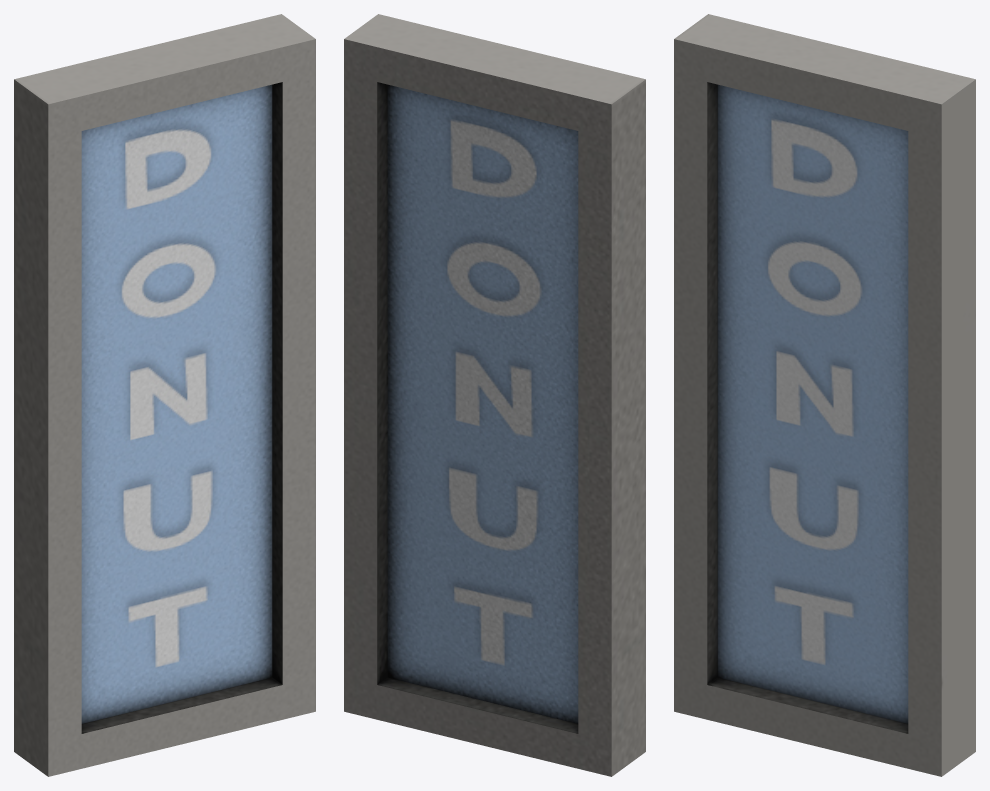
The model's file is Prop_Sign03.FBX.
3 views of the same model, side by side, from view 1: azimuth 30°, elevation 25°; view 2: azimuth 150°, elevation 25°; view 3: azimuth 330°, elevation 25° (orthographic).
Parts seen in each view (by area): view 1: Box006; view 2: Box006; view 3: Box006.
Part boxes in pixels (x1=…): Box006: x1=14, y1=14, x2=315, y2=776; Box006: x1=344, y1=14, x2=645, y2=776; Box006: x1=674, y1=14, x2=975, y2=776.
Bounding box in the file's own units: 67.19 × 161 × 14.9.
